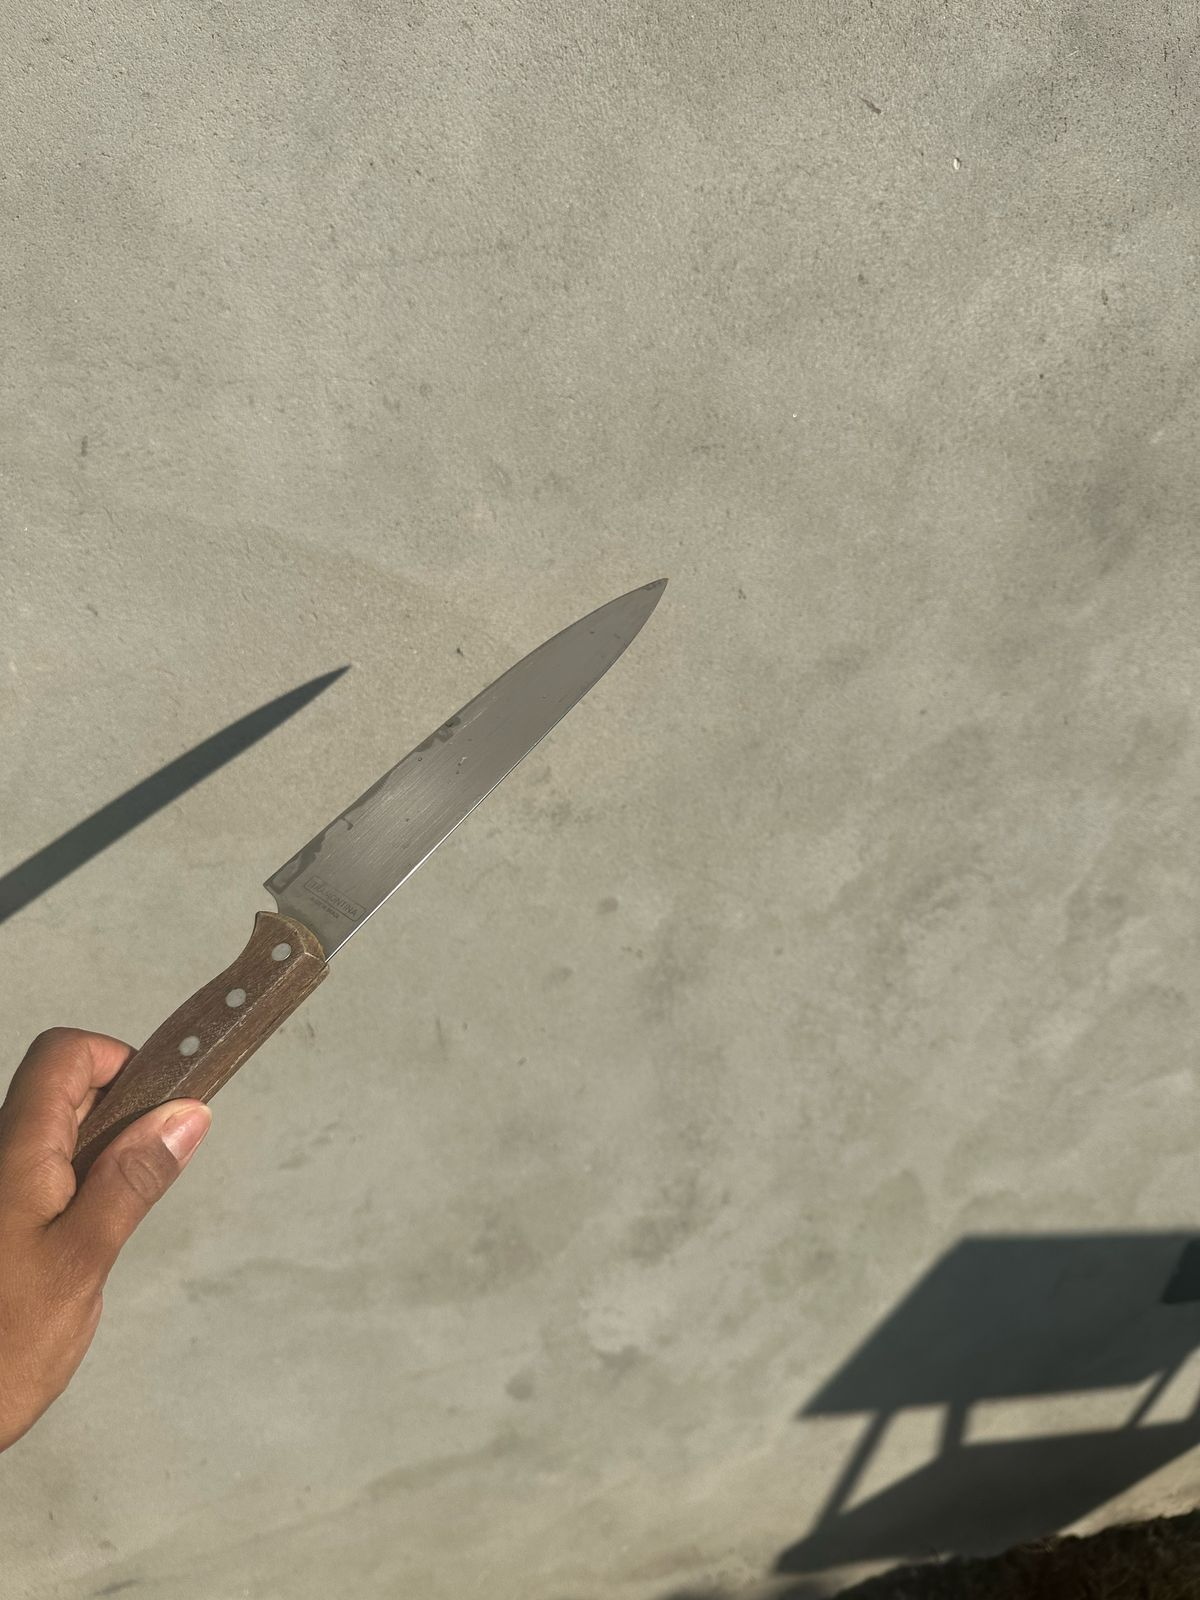faca: (144, 550, 692, 1083)
